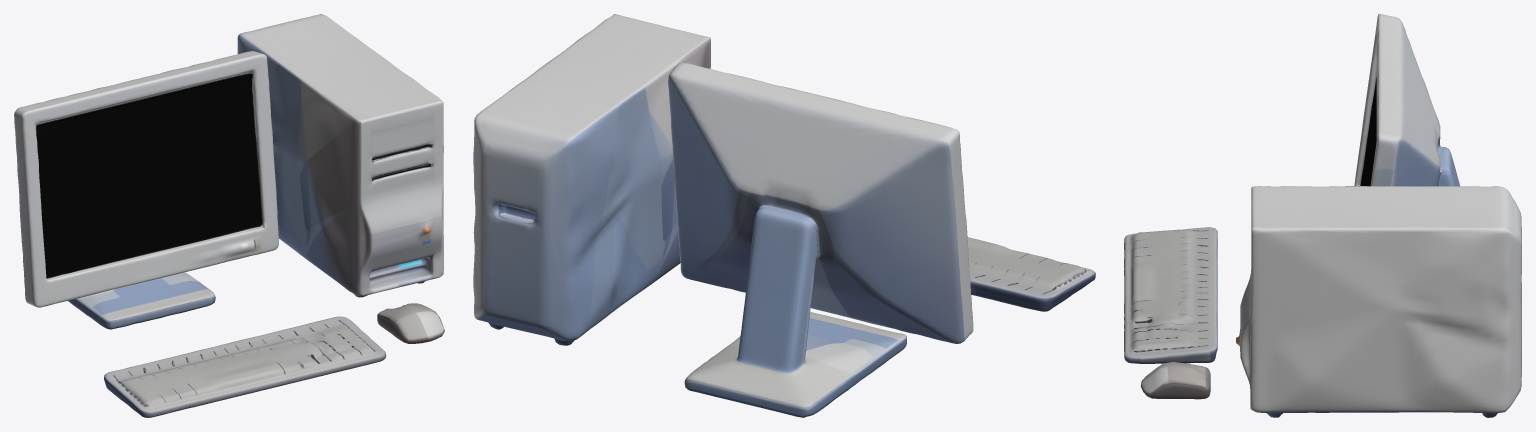
Rendered from base_basic_pbr.fbx.
3 views of the same model, side by side, from view 1: azimuth 30°, elevation 25°; view 2: azimuth 150°, elevation 25°; view 3: azimuth 270°, elevation 25° (orthographic). The views are drawn at different scales.
Parts seen in each view (by area): view 1: model; view 2: model; view 3: model.
Part boxes in pixels (left/top/right/bottom): model: left=14, top=14, right=444, bottom=417; model: left=473, top=14, right=1095, bottom=417; model: left=1124, top=14, right=1521, bottom=417.
Size of the model in its own units: 191 by 109 by 171.
Materials: 1 (1 with a texture image).
